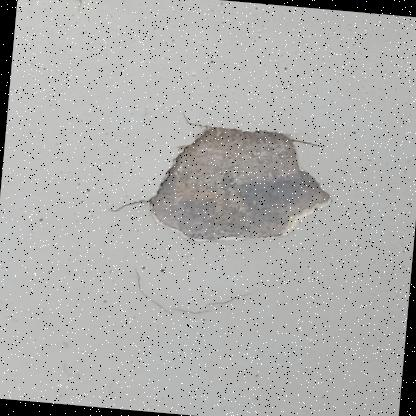Crack: (92, 86, 374, 270), (124, 252, 276, 346), (16, 0, 109, 24), (344, 11, 415, 40)
